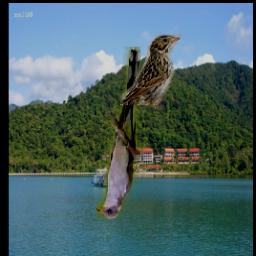Cuckoo: (96, 47, 140, 219)
Sparrow: (120, 34, 181, 105)
